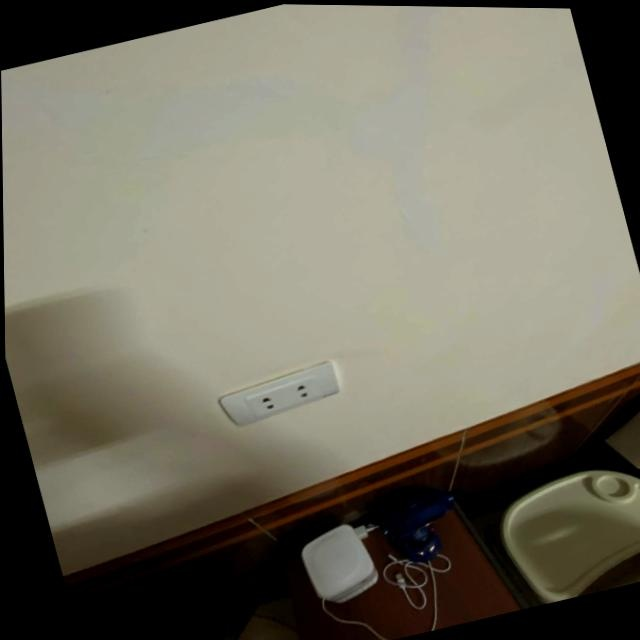outlet: (214, 357, 344, 431)
